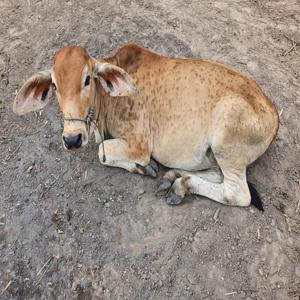lumpy skin diesease: (12, 41, 280, 211)
